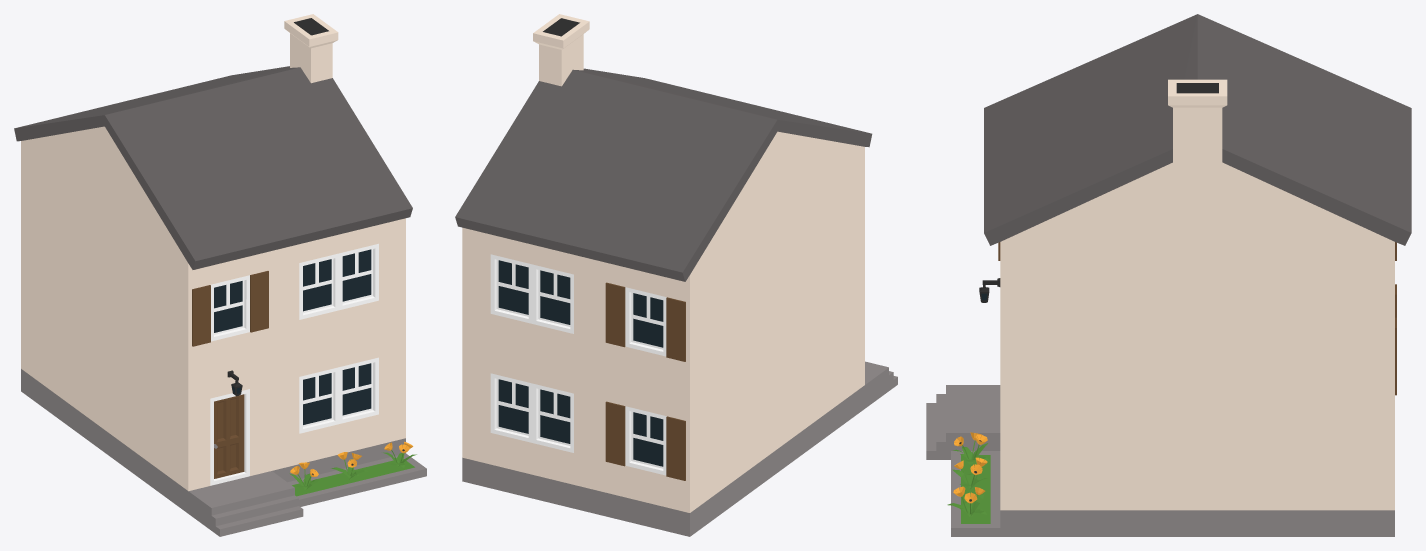
File: building-house-block.glb
3 views of the same model, side by side, from view 1: azimuth 30°, elevation 25°; view 2: azimuth 150°, elevation 25°; view 3: azimuth 270°, elevation 25° (orthographic). The views are drawn at different scales.
Visible parts, largest first — view 1: building-house-block; view 2: building-house-block; view 3: building-house-block.
Boxes of the visible parts, x1=… form: building-house-block: x1=14, y1=14, x2=426, y2=536; building-house-block: x1=455, y1=14, x2=897, y2=536; building-house-block: x1=926, y1=14, x2=1411, y2=536.
Size of the model in its own units: 6.1 by 9.9 by 9.84.
1 material, 1 textured.
